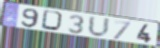3: (67, 14, 86, 35)
4: (136, 24, 153, 44)
7: (113, 19, 132, 40)
9: (21, 8, 41, 29)
D: (40, 9, 66, 33)
U: (87, 15, 111, 38)
